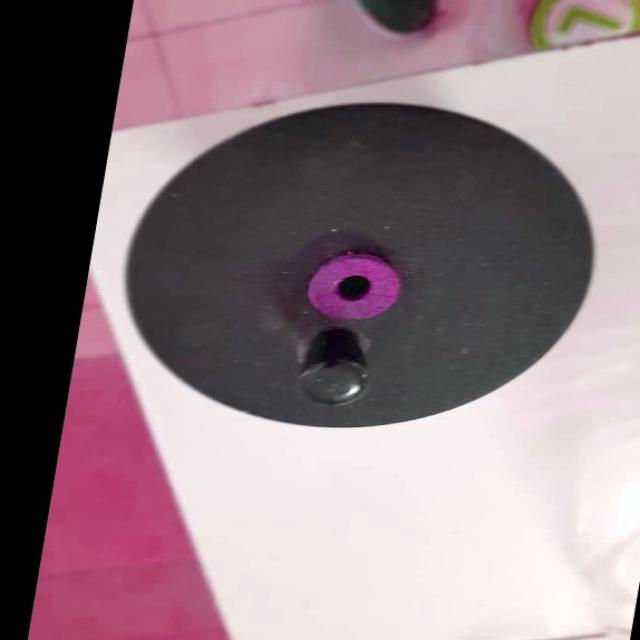Calorimeter: (99, 95, 626, 438)
